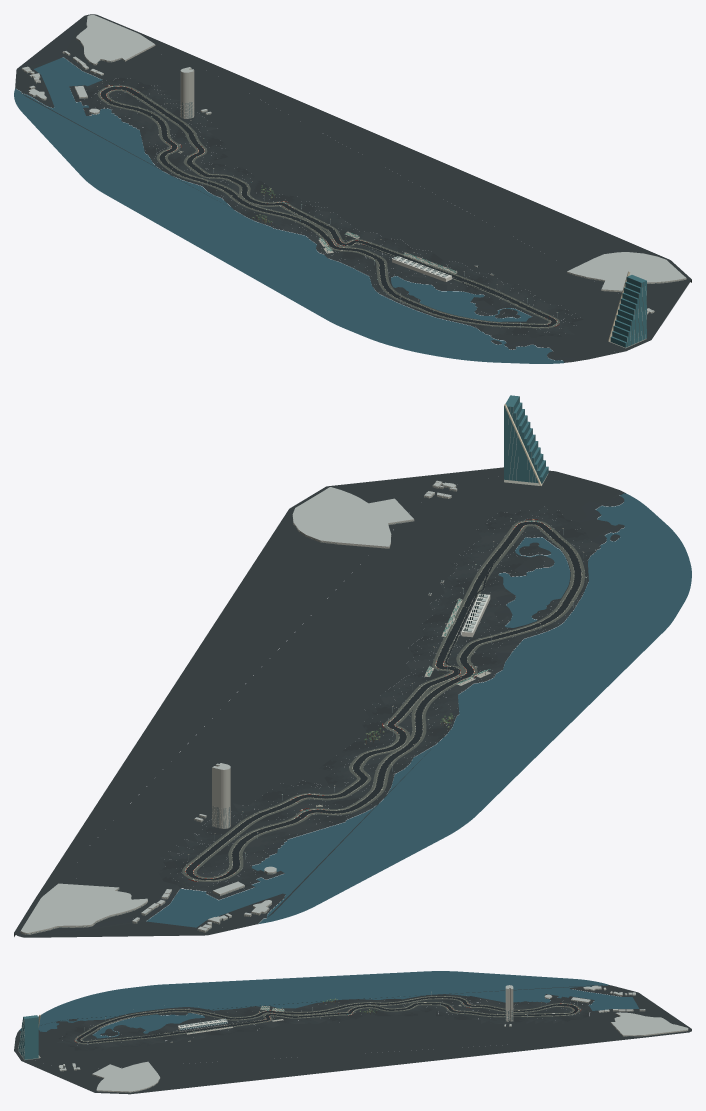
The model's file is Jeddah.glb.
3 renders of one model, top to bottom at view 1: azimuth 30°, elevation 25°; view 2: azimuth 150°, elevation 25°; view 3: azimuth 270°, elevation 25°, orthographic. The views are drawn at different scales.
Visible parts, largest first — view 1: terrain/ground, water-1/water, terrain-extension/land, terrain-ground-finish-1, terrain-ground-finish-2, road/asphalt, terrain-ground-finish-3, runoff/runoff, terrain-ground-finish-0, urban-map-tile-4-6/roof, terrain-ground-finish-4, urban-map-tile-0--10/roof (+5 smaller); view 2: terrain/ground, water-1/water, terrain-extension/land, terrain-ground-finish-1, terrain-ground-finish-2, road/asphalt, terrain-ground-finish-3, runoff/runoff, urban-map-tile-4-6/roof, terrain-ground-finish-0, urban-map-tile-0--10/roof, terrain-ground-finish-4 (+5 smaller); view 3: terrain/ground, water-1/water, terrain-extension/land, terrain-ground-finish-1, terrain-ground-finish-2, road/asphalt, runoff/runoff, terrain-ground-finish-3, terrain-ground-finish-0, urban-map-tile-4-6/roof, street-walls/concrete, terrain-ground-finish-4 (+5 smaller).
Part boxes in pixels (x1,y1,x2,y2): terrain/ground: (15,51,622,362); water-1/water: (14,57,564,363); terrain-extension/land: (15,14,691,358); terrain-ground-finish-1: (75,78,581,337); terrain-ground-finish-2: (83,79,578,337); road/asphalt: (100,86,556,326); terrain-ground-finish-3: (84,82,572,334); runoff/runoff: (98,85,559,328); terrain-ground-finish-0: (74,77,583,336); urban-map-tile-4-6/roof: (567,252,685,290); terrain-ground-finish-4: (89,84,573,335); urban-map-tile-0--10/roof: (76,15,154,63); terrain/ground: (75,475,625,927); water-1/water: (146,493,691,927); terrain-extension/land: (14,467,597,937); terrain-ground-finish-1: (158,510,595,890); terrain-ground-finish-2: (158,508,595,892); road/asphalt: (186,521,581,880); terrain-ground-finish-3: (160,507,596,893); runoff/runoff: (182,520,585,881); urban-map-tile-4-6/roof: (292,487,413,546); terrain-ground-finish-0: (162,511,589,890); urban-map-tile-0--10/roof: (21,883,147,932); terrain-ground-finish-4: (169,506,599,891); terrain/ground: (15,985,639,1069); water-1/water: (19,971,639,1031); terrain-extension/land: (14,985,691,1094); terrain-ground-finish-1: (57,994,591,1050); terrain-ground-finish-2: (62,995,591,1050); road/asphalt: (76,996,578,1043); runoff/runoff: (74,996,580,1044); terrain-ground-finish-3: (58,994,590,1048); terrain-ground-finish-0: (58,994,590,1050); urban-map-tile-4-6/roof: (92,1061,159,1091); street-walls/concrete: (76,996,578,1043); terrain-ground-finish-4: (57,994,589,1047).
Size of the model in its own units: 1616 by 280 by 3753.
